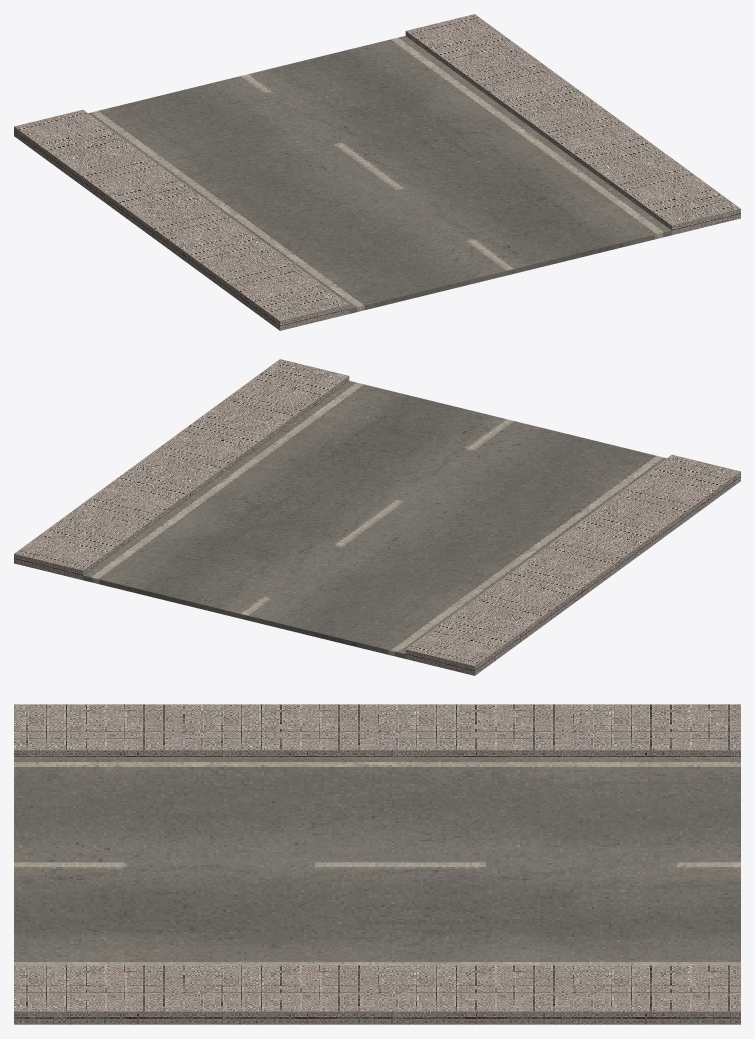
The model's file is road_4_straight.glb.
The picture shows the model from 3 angles, top to bottom: view 1: azimuth 30°, elevation 25°; view 2: azimuth 150°, elevation 25°; view 3: azimuth 270°, elevation 25°; orthographic projection. The views are drawn at different scales.
Parts seen in each view (by area): view 1: road_4_straight; view 2: road_4_straight; view 3: road_4_straight.
Boxes of the visible parts, box(x1,y1,x2,y2) form: road_4_straight: box(14, 14, 740, 330); road_4_straight: box(14, 359, 740, 675); road_4_straight: box(14, 704, 740, 1024).
Size of the model in its own units: 16 by 0.32 by 16.
Materials: 2 (2 with a texture image).
